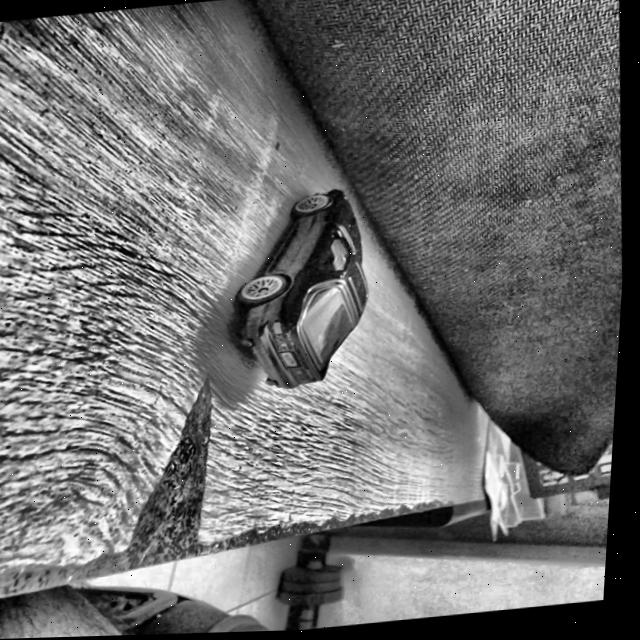car: (225, 186, 384, 396)
